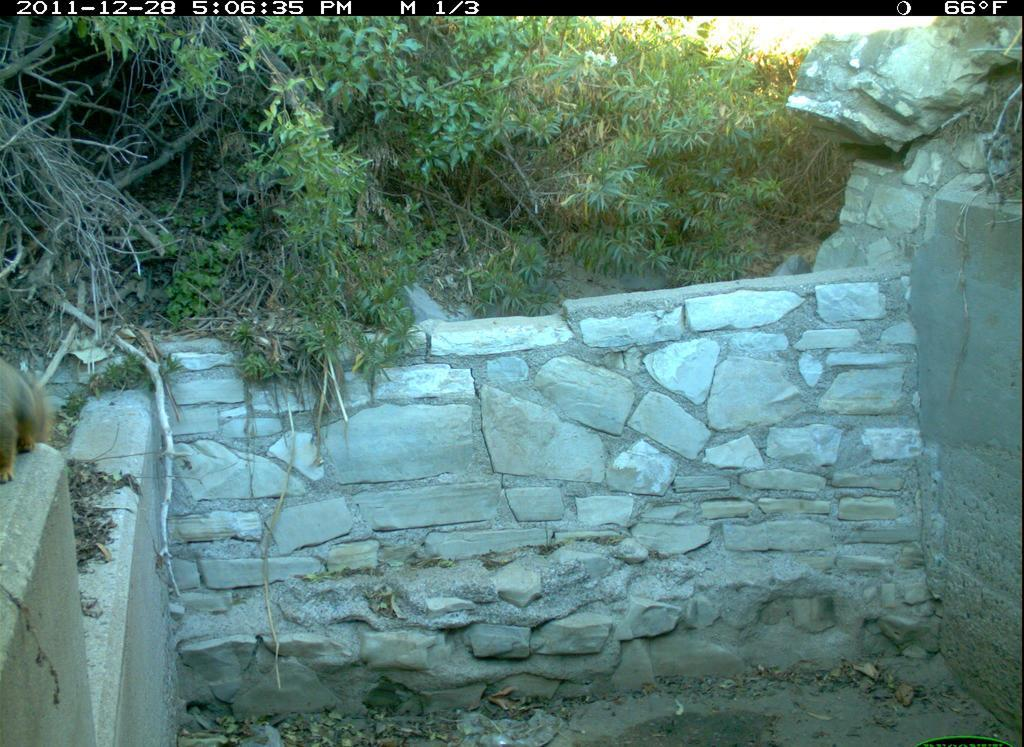squirrel: (4, 337, 62, 489)
